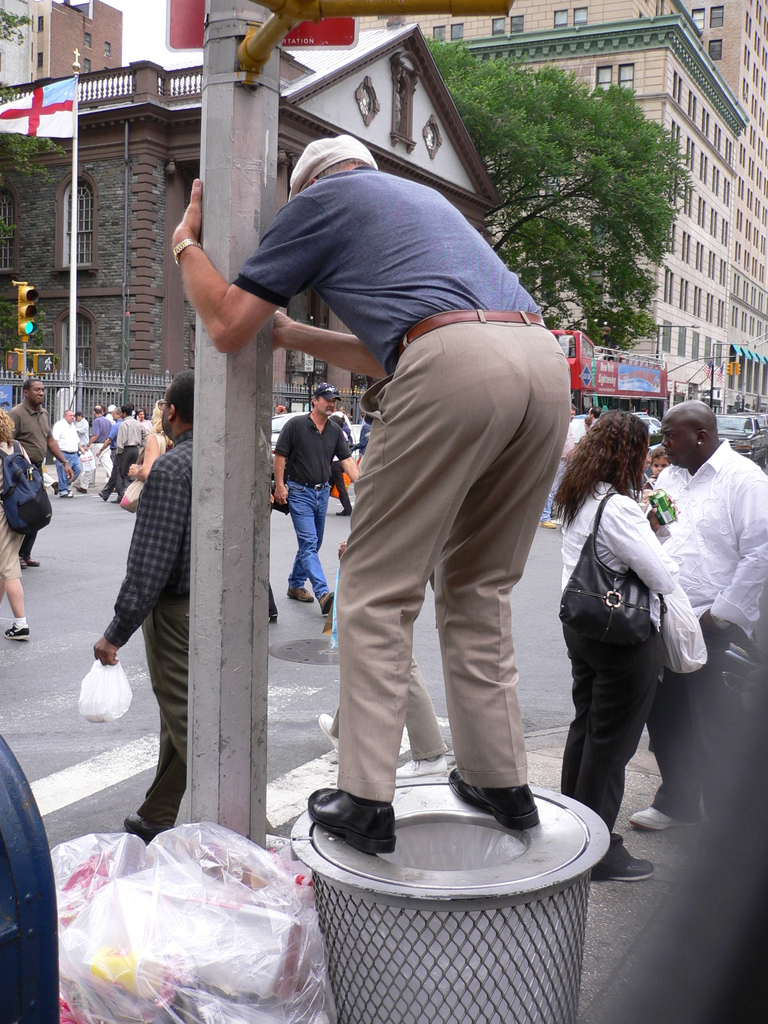Person: (86, 370, 195, 836), (41, 403, 163, 499)
